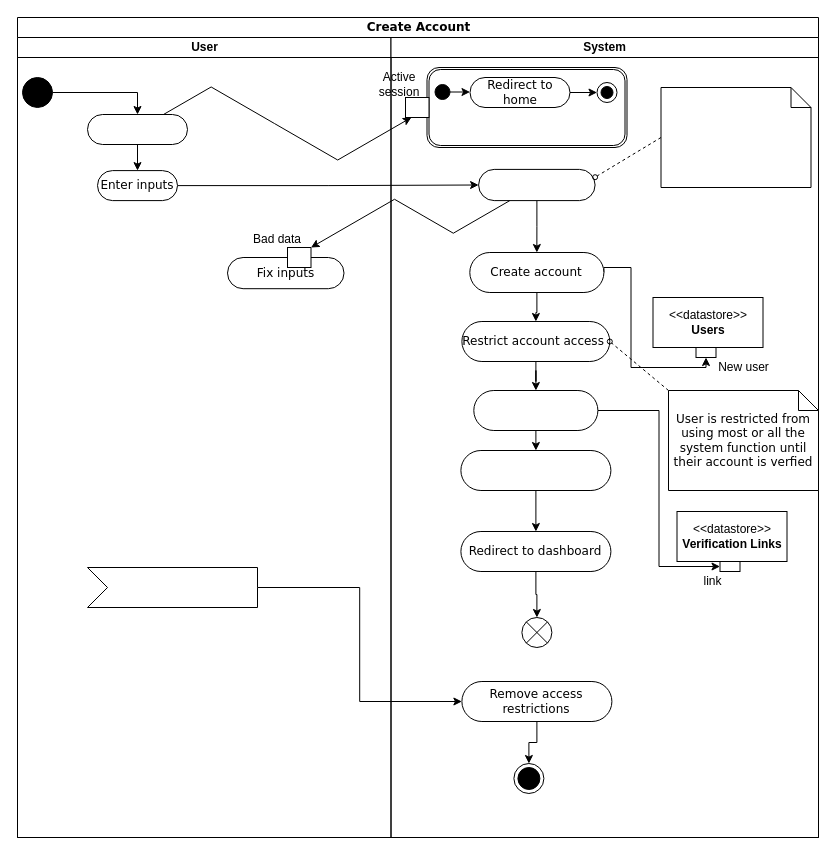
This 836x855 diagram has some shape labels left out. Here are the shapes that lost their labels. From the top down, the centre of each, then its label:
the point at 137,129: Open Register Form
the point at 735,137: 1. Email format 2. Pass & Confirm Pass 3. username regex match and not empty
the point at 536,184: Validate inputs
the point at 535,410: Generate verification link
the point at 535,470: Send verfication link to user's email
the point at 172,587: User opens the link & it is not expired
